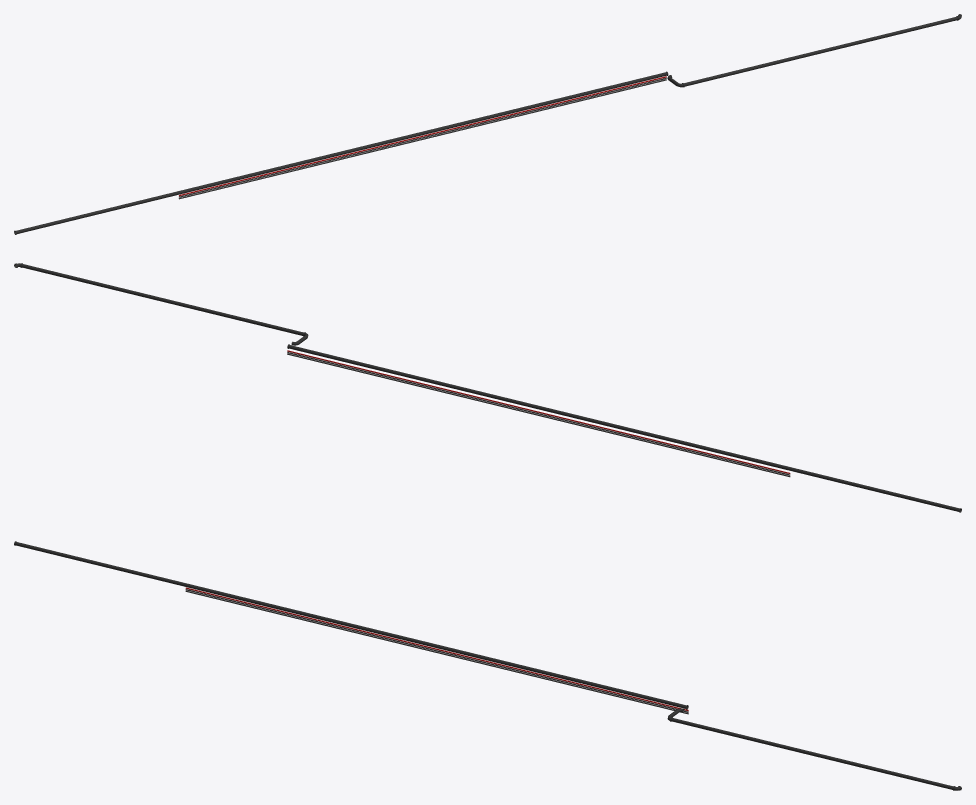
The model's file is SM_H_Building_Tide_OfficeLobby_01I_ATLAS.fbx.
3 renders of one model, top to bottom at view 1: azimuth 30°, elevation 25°; view 2: azimuth 150°, elevation 25°; view 3: azimuth 330°, elevation 25°, orthographic. The views are drawn at different scales.
Parts seen in each view (by area): view 1: SM_H_Building_Tide_OfficeLobby_01I_ATLAS; view 2: SM_H_Building_Tide_OfficeLobby_01I_ATLAS; view 3: SM_H_Building_Tide_OfficeLobby_01I_ATLAS.
Part boxes in pixels (box(x1,y1,x2,y2)): SM_H_Building_Tide_OfficeLobby_01I_ATLAS: box(14, 14, 961, 234); SM_H_Building_Tide_OfficeLobby_01I_ATLAS: box(14, 263, 961, 512); SM_H_Building_Tide_OfficeLobby_01I_ATLAS: box(14, 541, 961, 790).
Size of the model in its own units: 6223 by 211 by 61.49.
